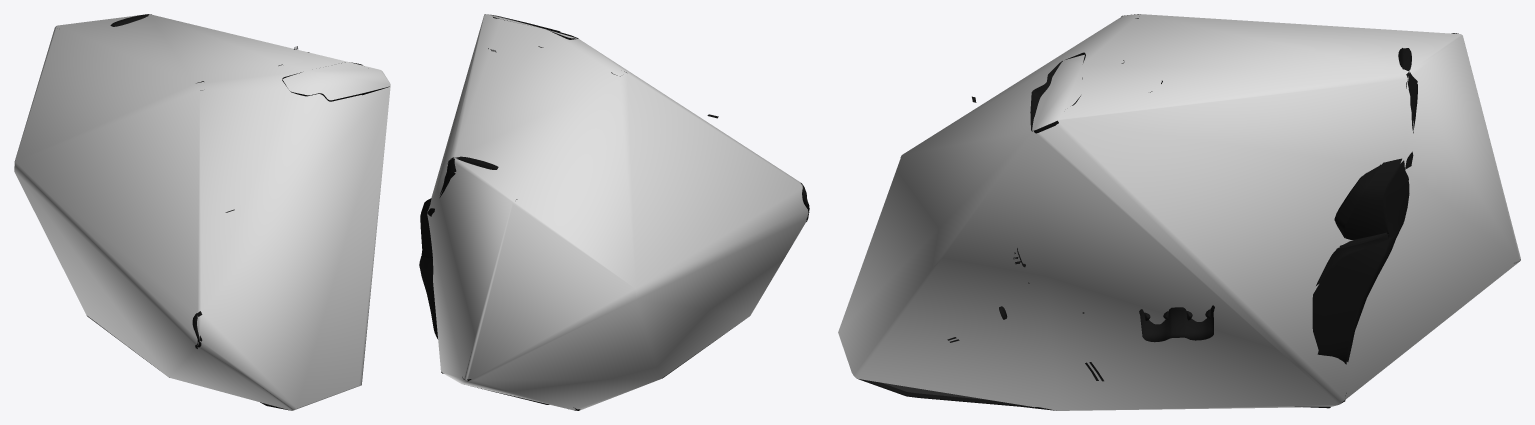
3 renders of one model, left to right at view 1: azimuth 30°, elevation 25°; view 2: azimuth 150°, elevation 25°; view 3: azimuth 270°, elevation 25°, orthographic. The views are drawn at different scales.
Visible parts, largest first — view 1: interior_stampede_l_01_col, interior_stampede_l_01; view 2: interior_stampede_l_01_col, interior_stampede_l_01; view 3: interior_stampede_l_01_col, interior_stampede_l_01.
Boxes of the visible parts, x1,y1,x2,y2 form: interior_stampede_l_01_col: (14, 14, 390, 410); interior_stampede_l_01: (87, 14, 389, 410); interior_stampede_l_01_col: (427, 14, 809, 410); interior_stampede_l_01: (419, 15, 809, 410); interior_stampede_l_01_col: (838, 14, 1520, 410); interior_stampede_l_01: (858, 14, 1520, 410).
Bounding box in the file's own units: 1.04 × 1.04 × 1.78.
Materials: 6 (4 with a texture image).
